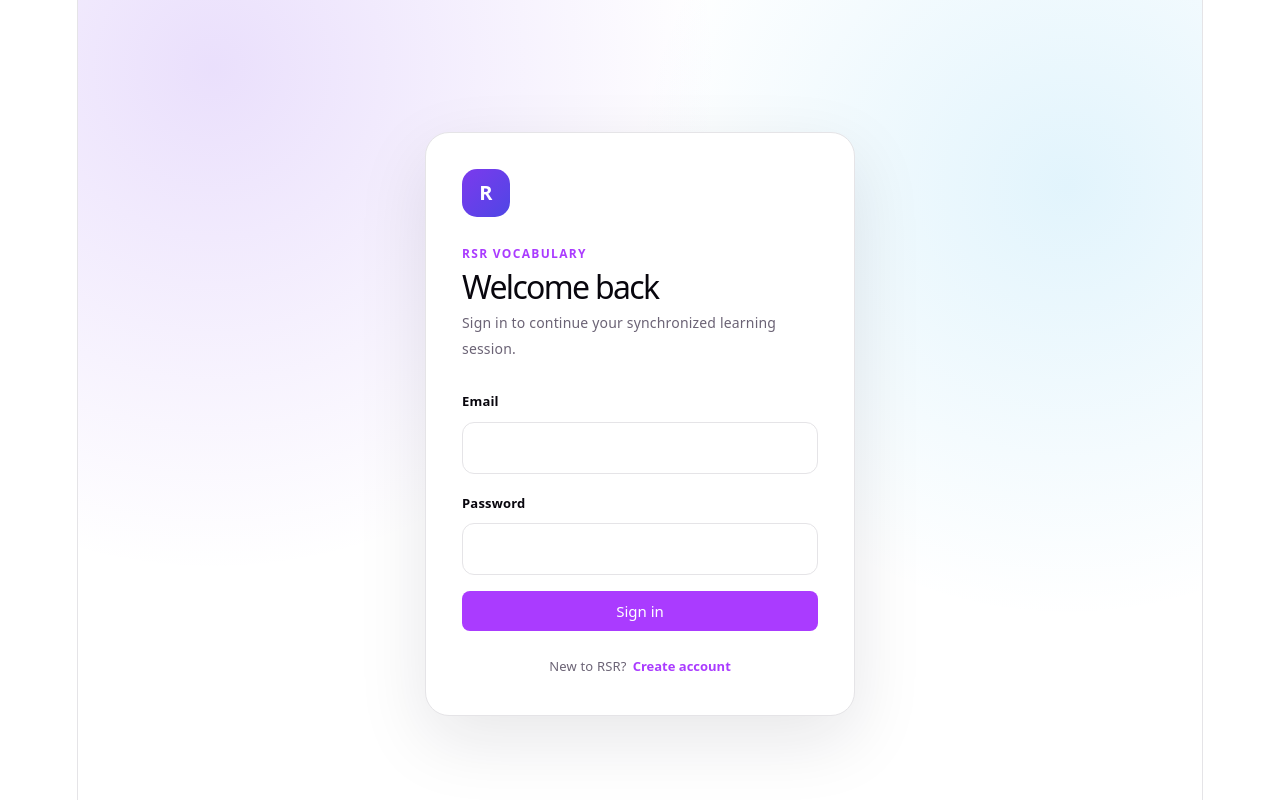
Test case: AppGate authentication › shows a rejected sign-up and restores the submit button
Click the button "Create account" at [682, 666], box [633,653,731,679]
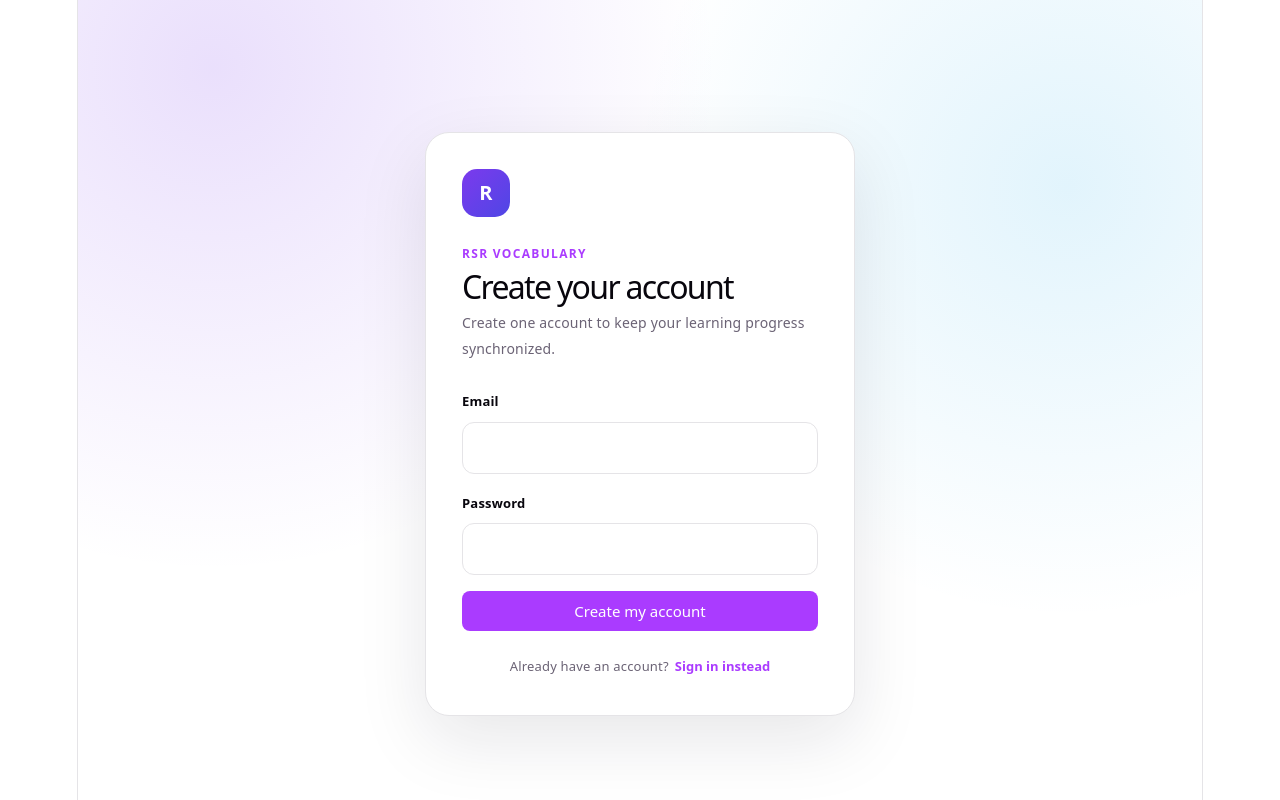
Type "new@example.com" into the field labelled "Email" at [640, 448], box [462,422,818,474]
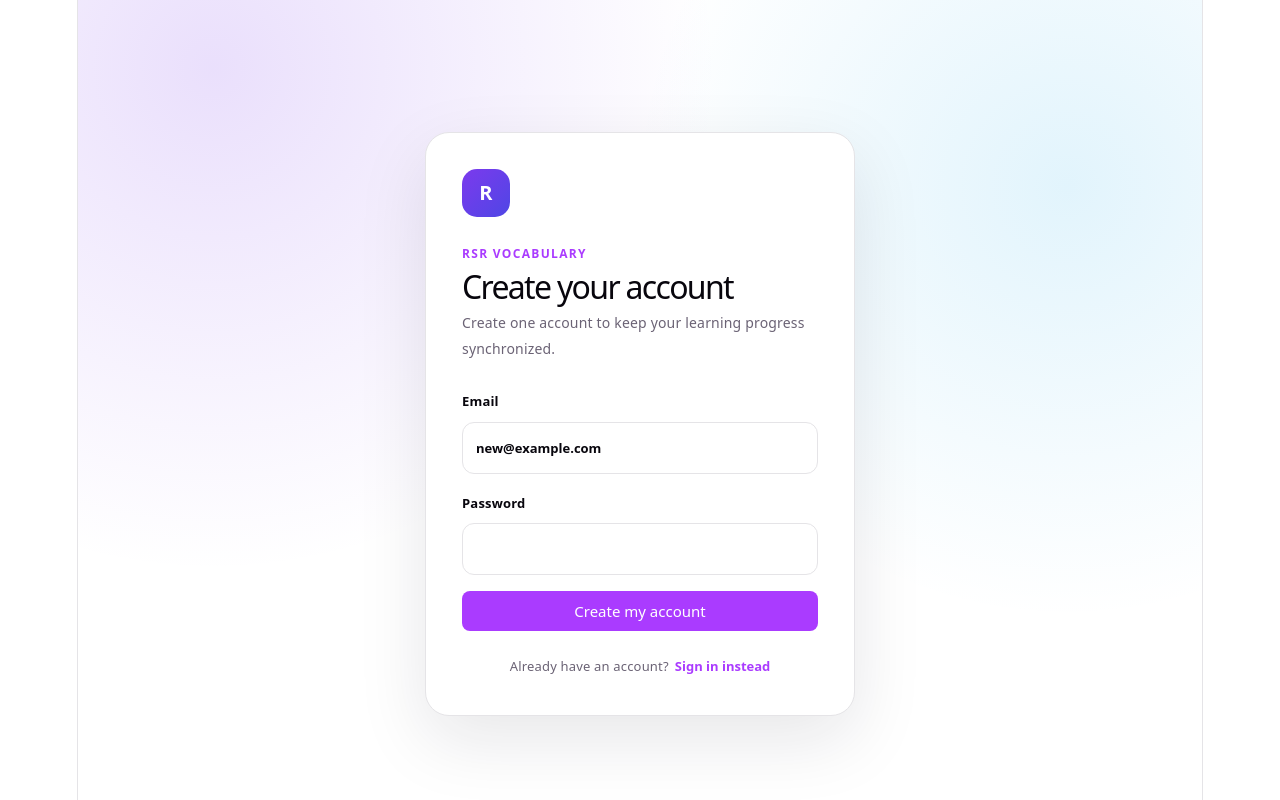
Type "a-secure-password" into the password field labelled "Password" at [640, 549], box [462,523,818,575]
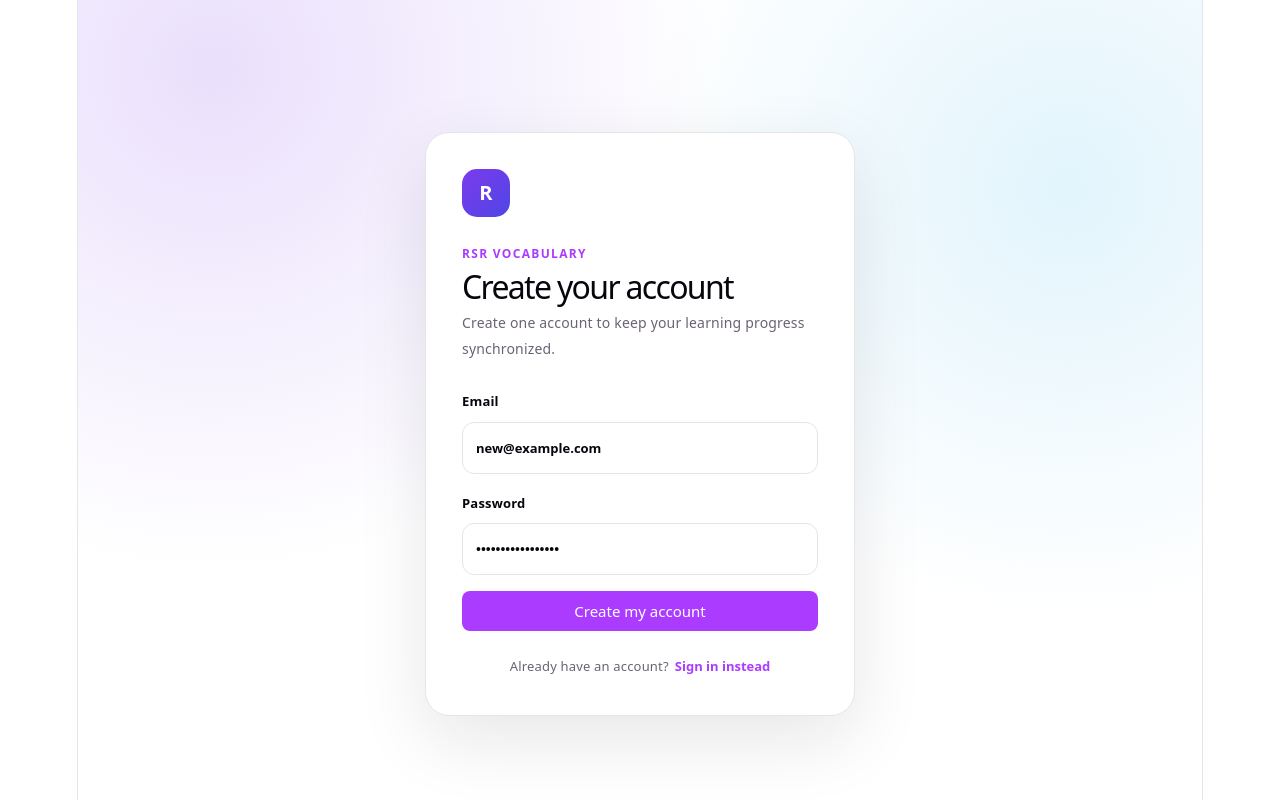
Click the button "Create my account" at [640, 611], box [462,591,818,631]
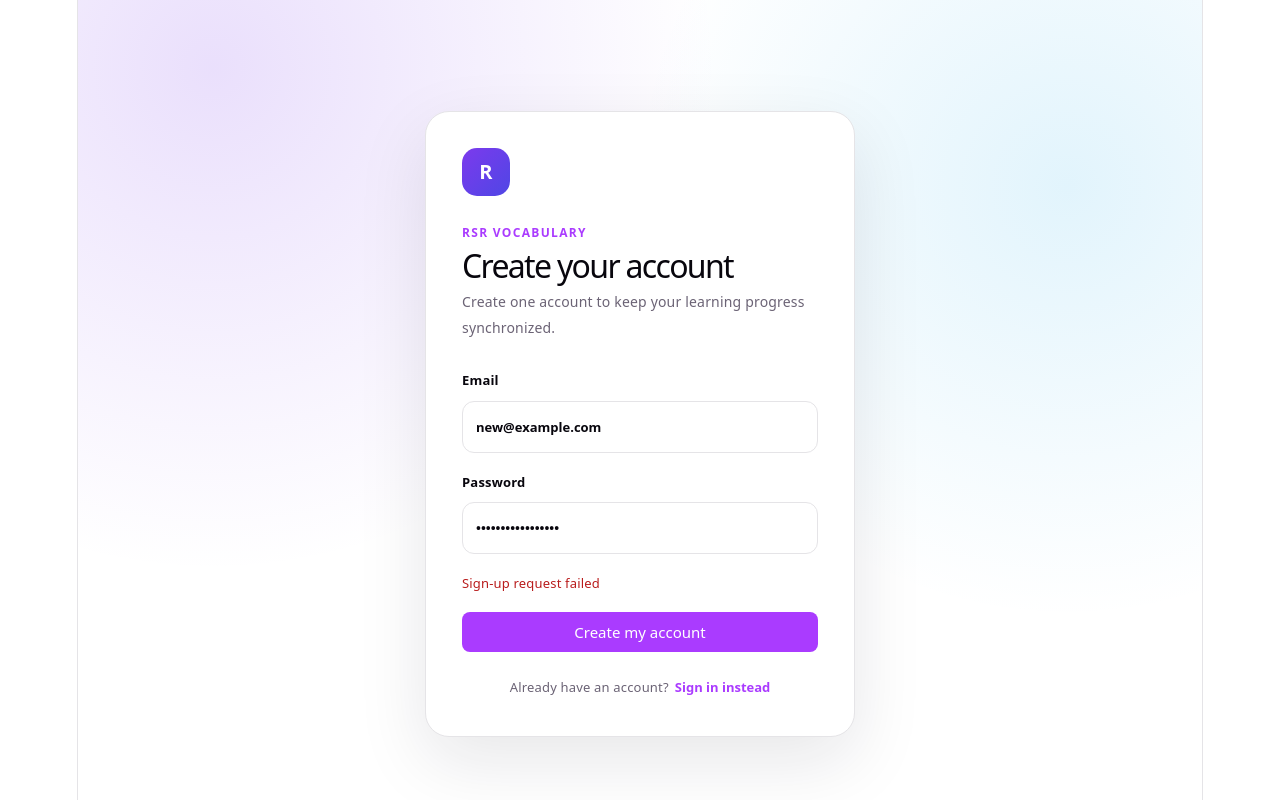
Expected: the button "Create my account" is enabled, [462,612,818,652]
Now the message reads "Sign-up request failed", box [462,574,600,592]
